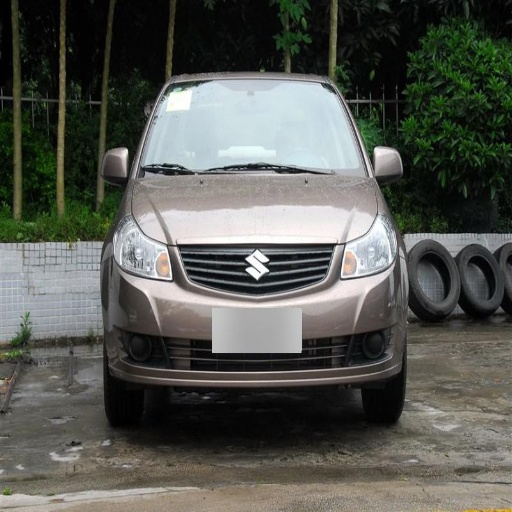front_bumper: (109, 243, 404, 388)
front_right_light: (114, 217, 174, 281)
hood: (129, 173, 376, 245)
